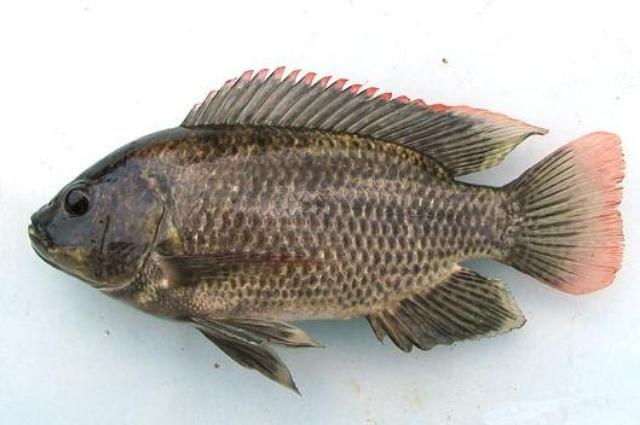Mulut: (7, 186, 75, 292)
Sirip Anal: (365, 260, 543, 358)
Sirip Dada: (144, 234, 336, 308)
Sirip Ekor: (500, 119, 636, 312)
Sirip Perut: (171, 296, 329, 404)
Sirip Punggung: (174, 56, 562, 190)
